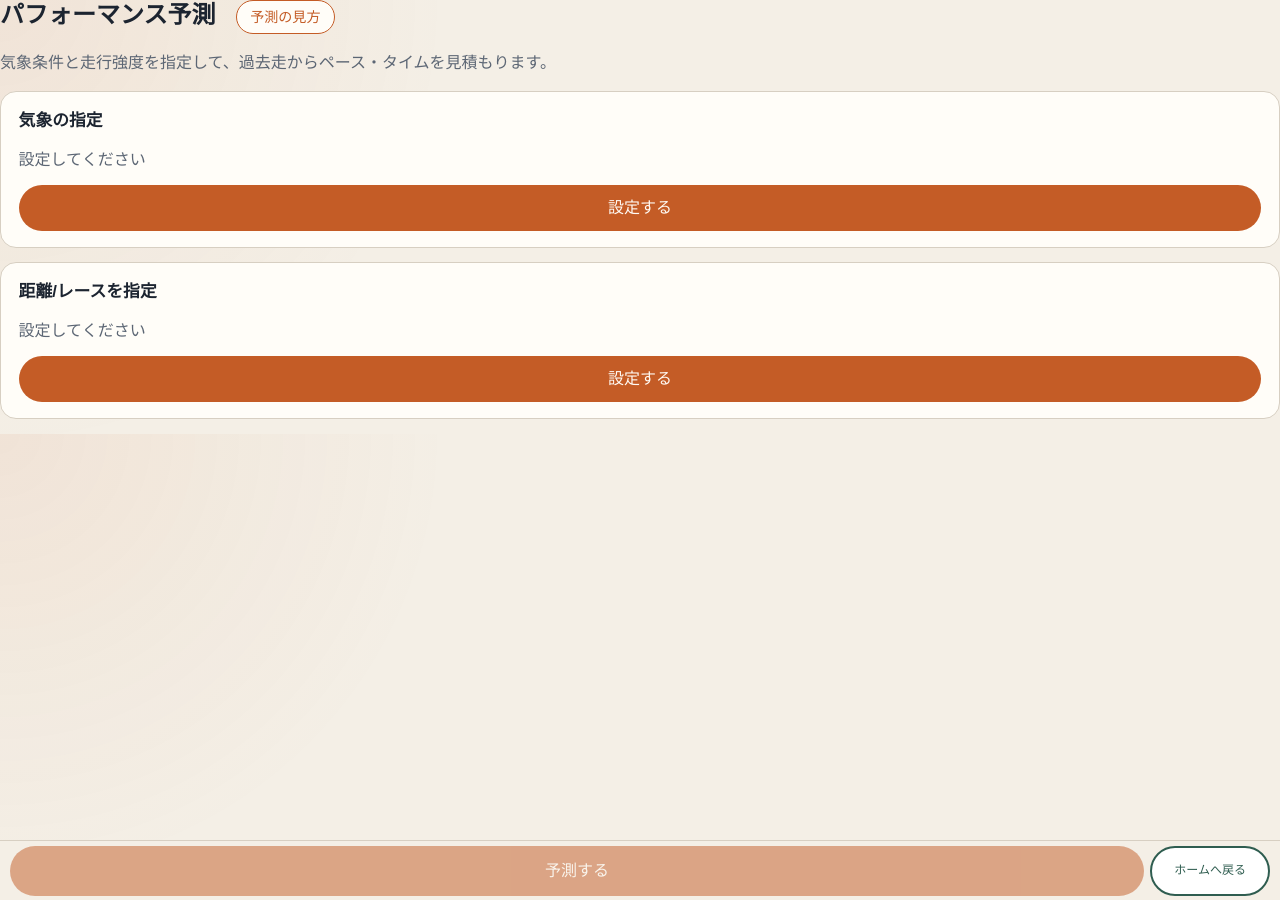
Test case: 予測フォーム › 距離を選ぶと走行強度が出て、レースでは出ない
The width and height of the screenshot is (1280, 900).
Expected: the button "予測する" is shown, [10, 846, 1144, 896]
Click the button "設定する" below "距離/レースを指定". click: coordinates (640, 379)
box: [19, 356, 1261, 402]
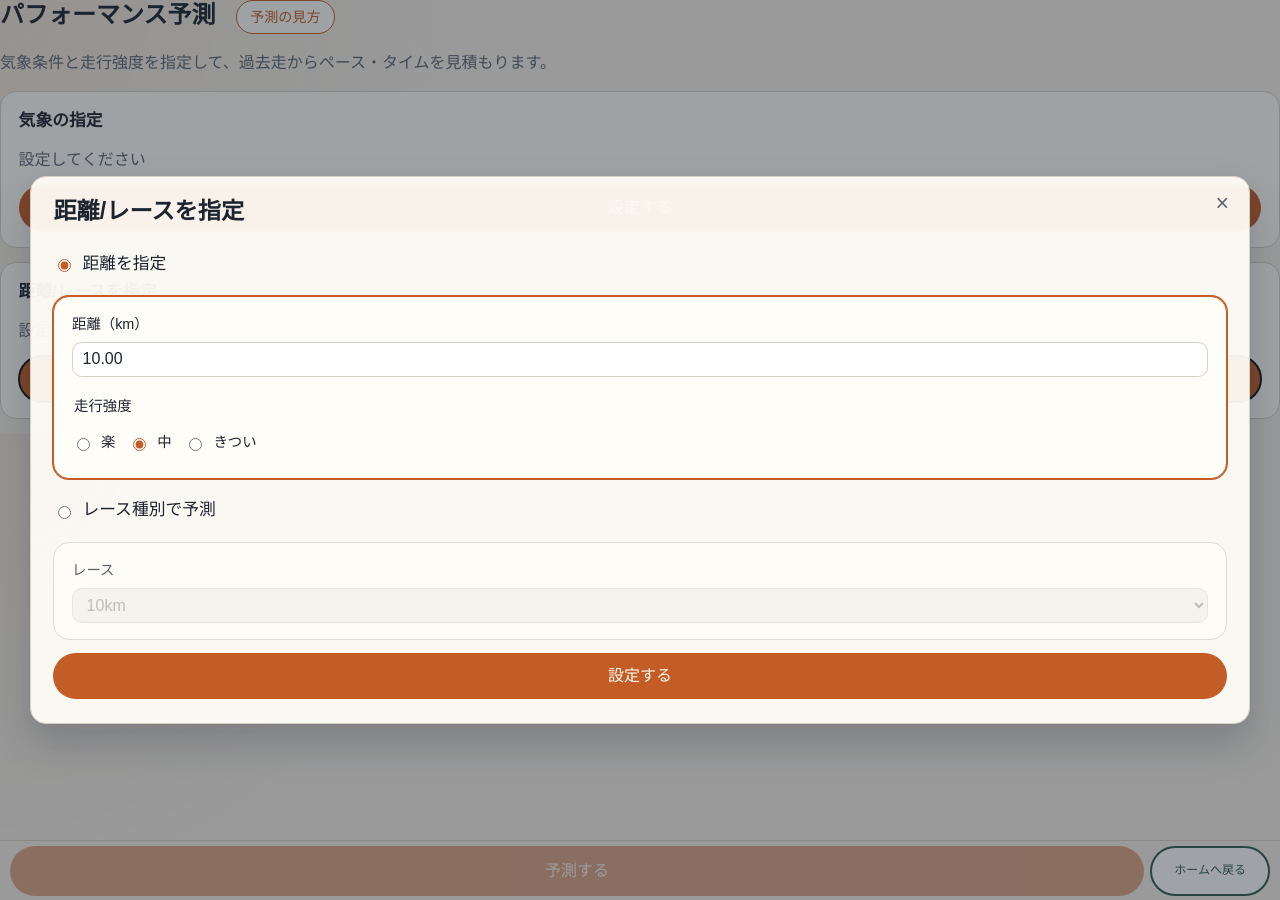
Expected: the number field labelled "距離（km）" is enabled, [72, 342, 1208, 377]
Expected: the radio button labelled "中" is enabled, [133, 427, 146, 462]
Expected: the dropdown labelled "レース" is disabled, [72, 588, 1208, 623]
Click the radio button labelled "レース種別で予測". click: coordinates (65, 512)
box: [58, 495, 71, 530]
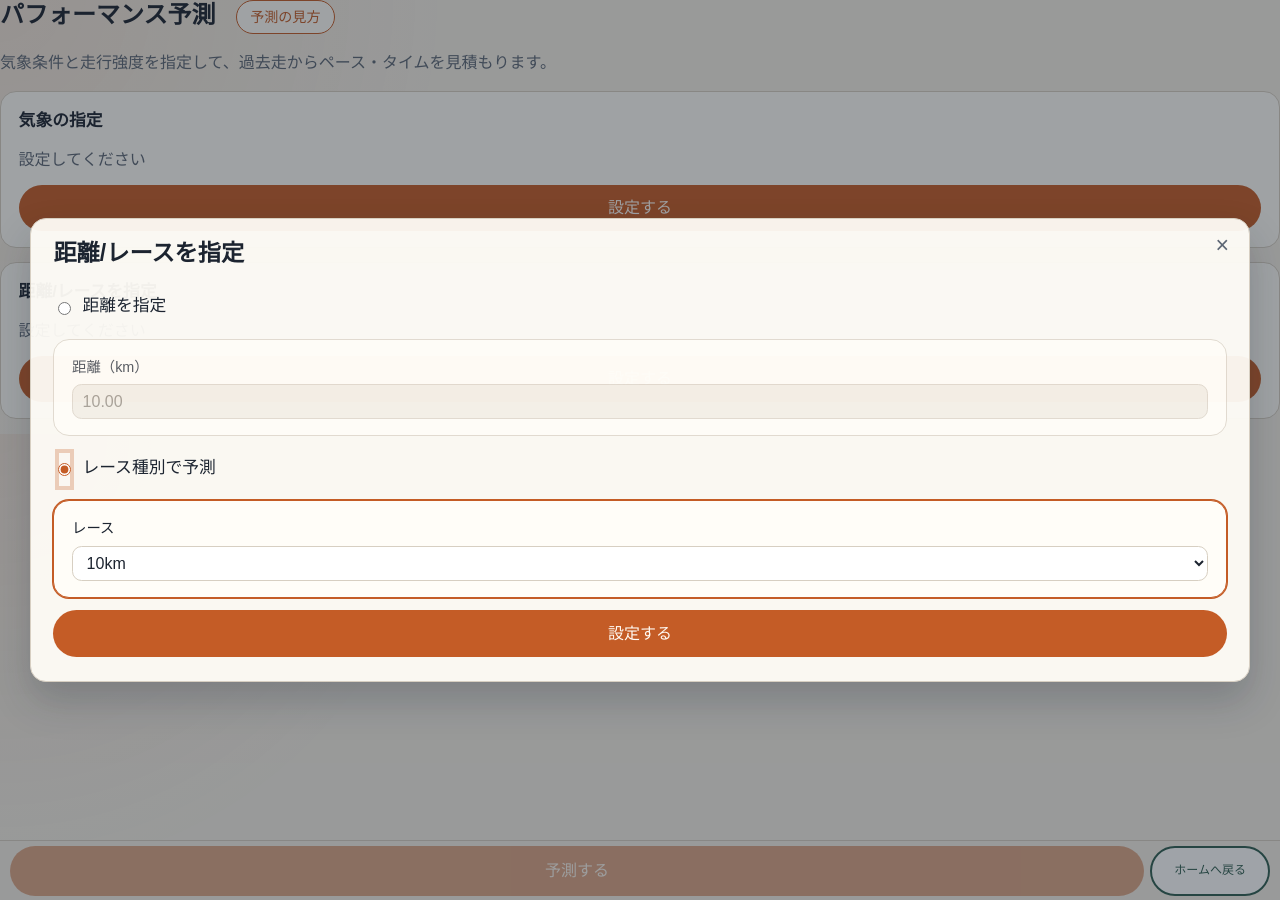
Expected: the label labelled "中" is gone
Expected: the number field labelled "距離（km）" is disabled, [72, 384, 1208, 419]
Expected: the dropdown labelled "レース" is enabled, [72, 546, 1208, 580]
